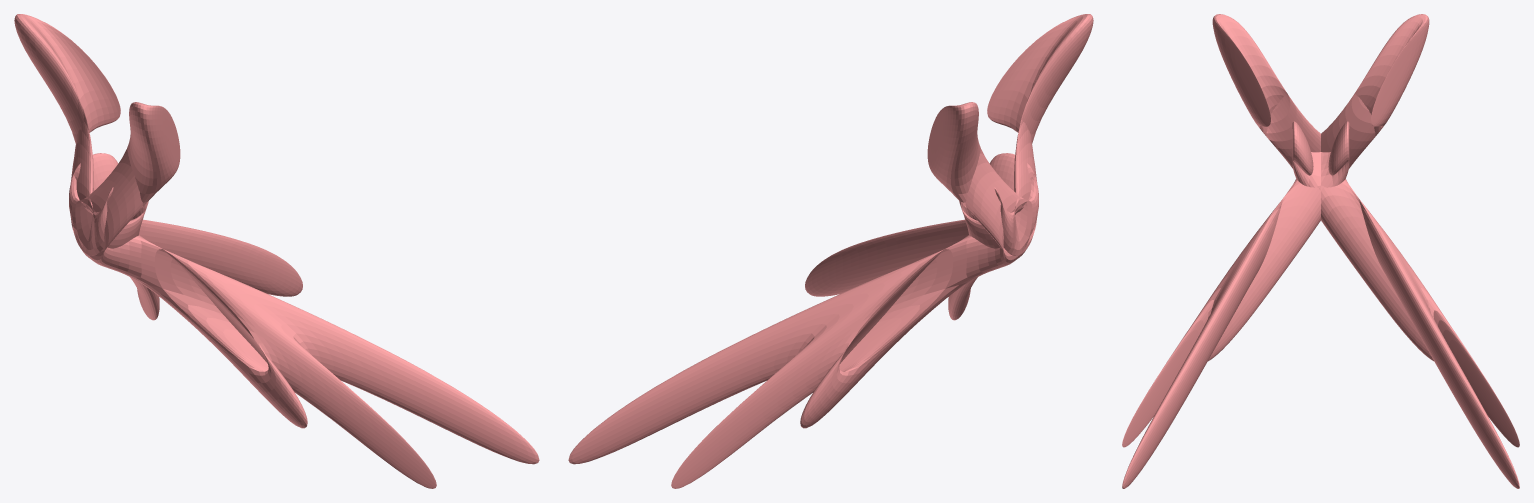
File: Creaturestruc11.obj
3 views of the same model, side by side, from view 1: azimuth 30°, elevation 25°; view 2: azimuth 150°, elevation 25°; view 3: azimuth 270°, elevation 25° (orthographic). The views are drawn at different scales.
Parts seen in each view (by area): view 1: Cube_Cube.012; view 2: Cube_Cube.012; view 3: Cube_Cube.012.
Boxes of the visible parts, bbox=[...] form: Cube_Cube.012: bbox=[14, 14, 539, 488]; Cube_Cube.012: bbox=[568, 14, 1093, 488]; Cube_Cube.012: bbox=[1122, 14, 1519, 488].
Bounding box in the file's own units: 14.84 × 16.48 × 17.66.
